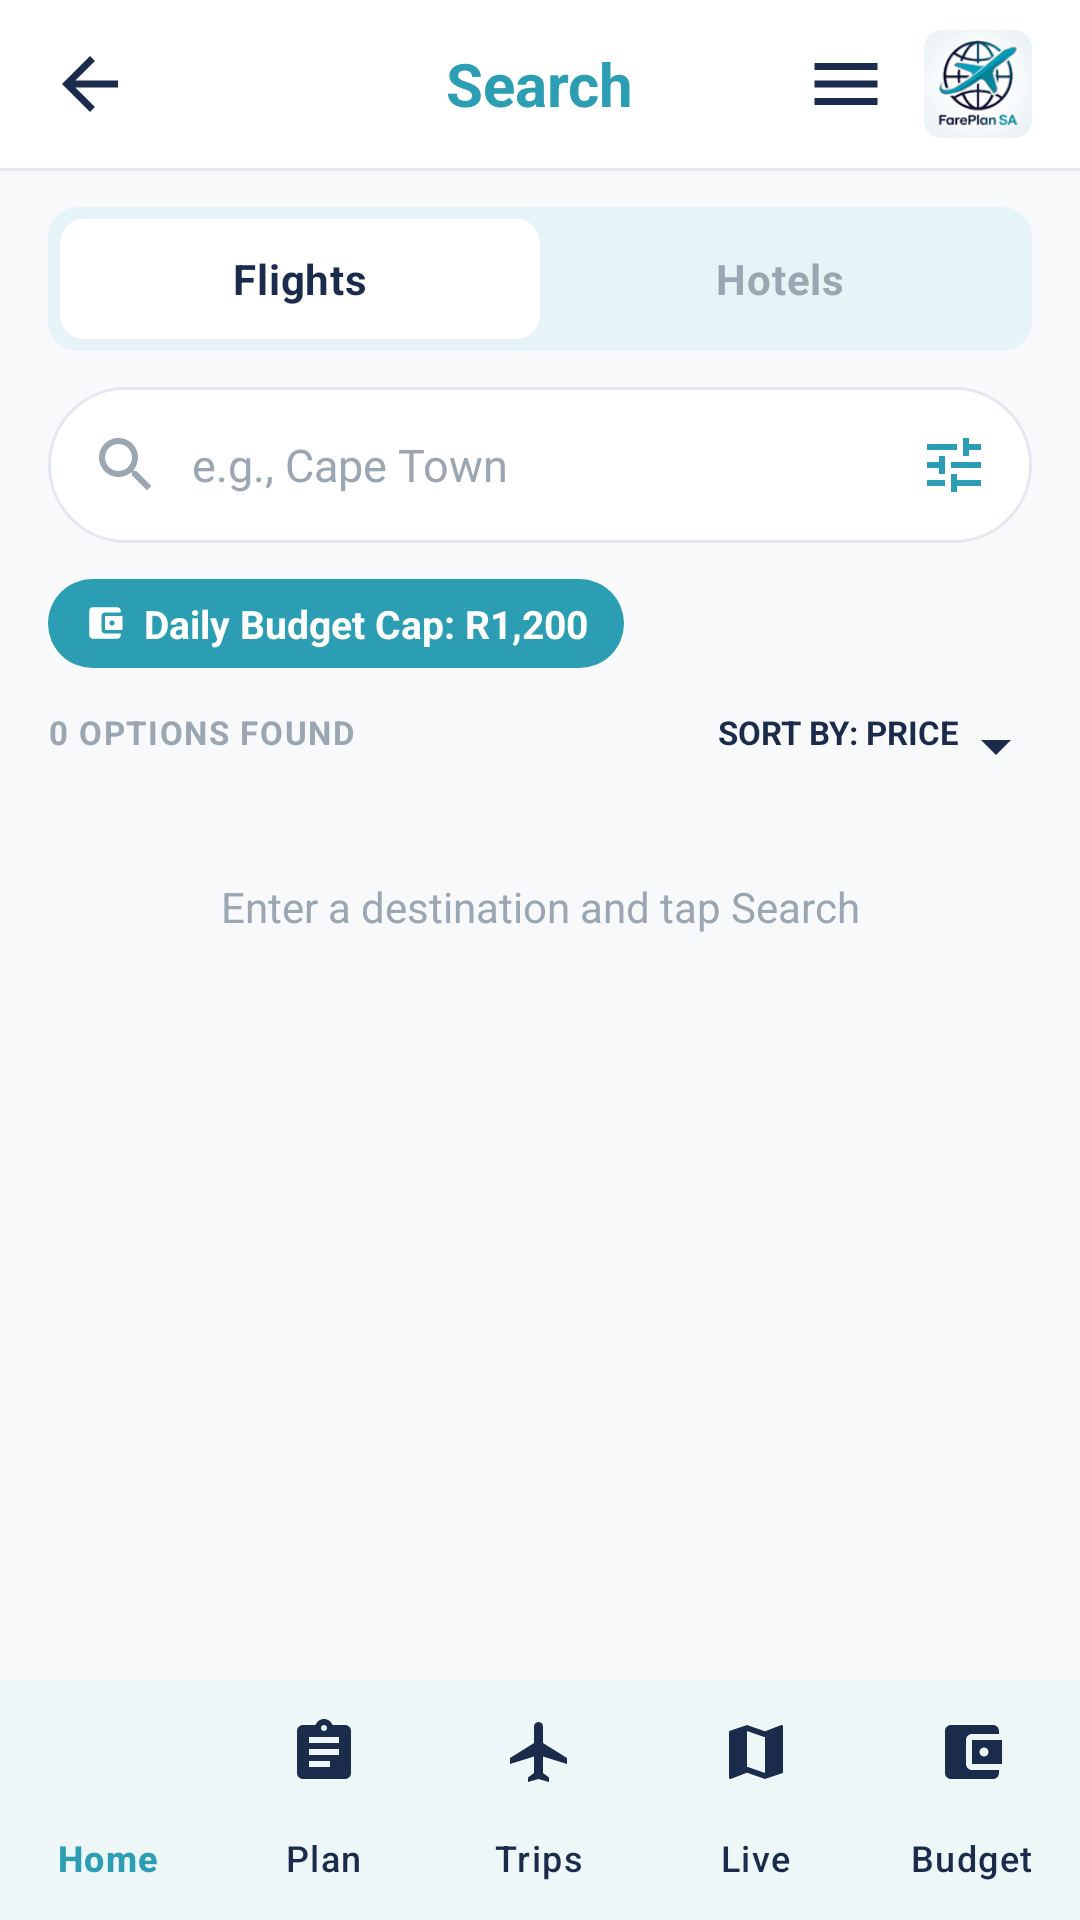

Named icons in this screenshot (1080w x 1920h) and their bounding boxes, bbox=[x1, y1, x2, y2]:
Back: bbox=[62, 56, 118, 112]
Filter: bbox=[927, 438, 981, 492]
Menu: bbox=[814, 63, 878, 105]
Search: bbox=[99, 438, 151, 490]
